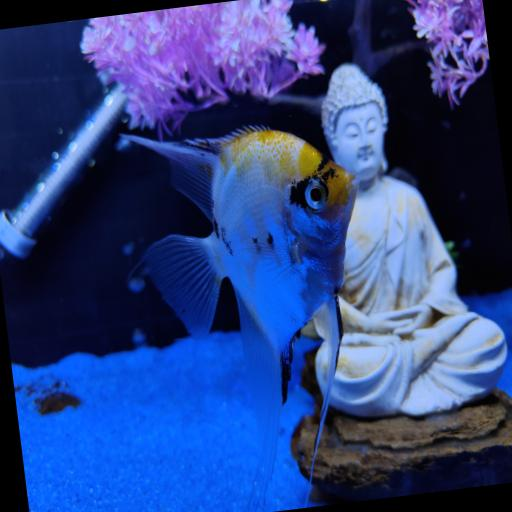Fish: (123, 128, 357, 499)
